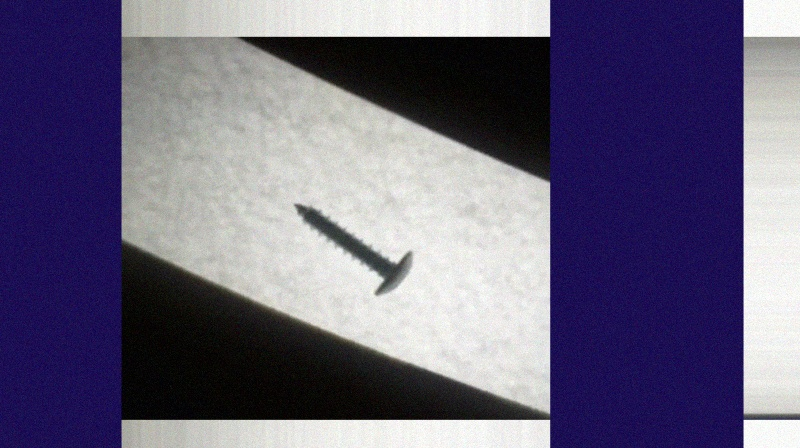S003: (287, 198, 417, 300)
